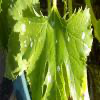Squash Powdery mildew leaf: (11, 1, 92, 99)
